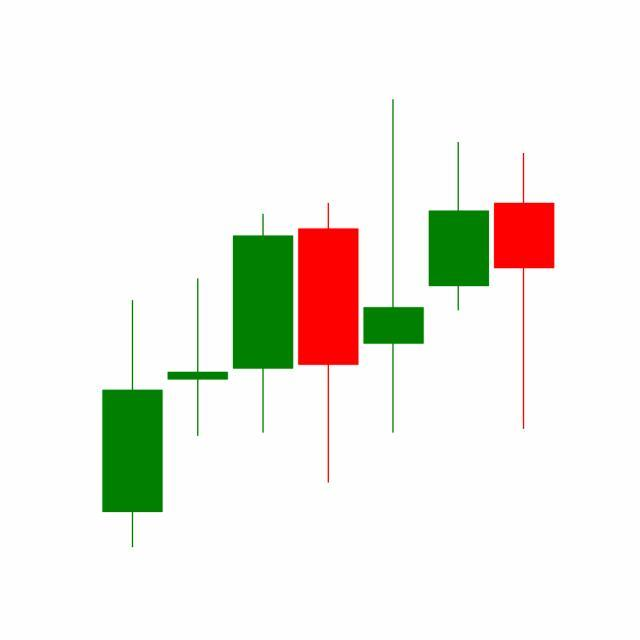Hikkake Pattern: (229, 100, 555, 489)
